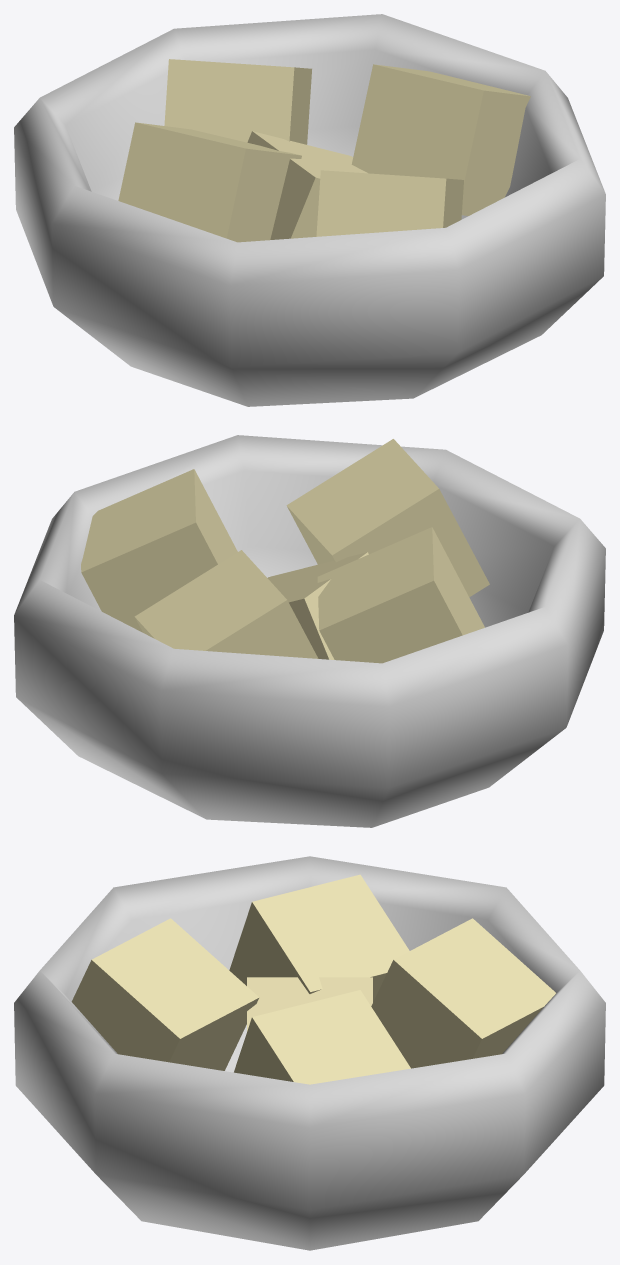
Rendered from Moneda moe de queso.fbx.
3 views of the same model, one above another, from view 1: azimuth 30°, elevation 25°; view 2: azimuth 150°, elevation 25°; view 3: azimuth 270°, elevation 25° (orthographic).
Visible parts, largest first — view 1: Cube, Cube.005, Cube.004, Cube.002, Cube.003, Cube.001; view 2: Cube, Cube.004, Cube.005, Cube.003, Cube.002, Cube.001; view 3: Cube, Cube.003, Cube.002, Cube.004, Cube.005, Cube.001.
Boxes of the visible parts, x1=… form: Cube: x1=14, y1=14, x2=605, y2=406; Cube.005: x1=351, y1=64, x2=530, y2=215; Cube.004: x1=118, y1=122, x2=301, y2=242; Cube.002: x1=164, y1=59, x2=311, y2=144; Cube.003: x1=316, y1=170, x2=463, y2=236; Cube.001: x1=247, y1=131, x2=367, y2=239; Cube: x1=14, y1=435, x2=605, y2=827; Cube.004: x1=317, y1=527, x2=484, y2=663; Cube.005: x1=81, y1=469, x2=237, y2=632; Cube.003: x1=286, y1=439, x2=489, y2=596; Cube.002: x1=134, y1=550, x2=318, y2=658; Cube.001: x1=267, y1=552, x2=368, y2=659; Cube: x1=14, y1=856, x2=605, y2=1250; Cube.003: x1=71, y1=918, x2=259, y2=1070; Cube.002: x1=371, y1=918, x2=555, y2=1068; Cube.004: x1=229, y1=874, x2=409, y2=1002; Cube.005: x1=234, y1=990, x2=410, y2=1084; Cube.001: x1=247, y1=977, x2=372, y2=1031.
Size of the model in its own units: 176 by 80.53 by 176.
